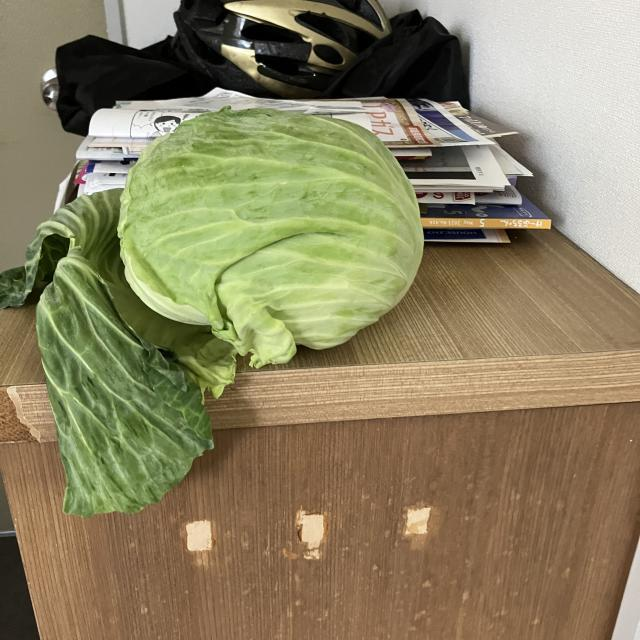Cabbage: (0, 103, 427, 518)
